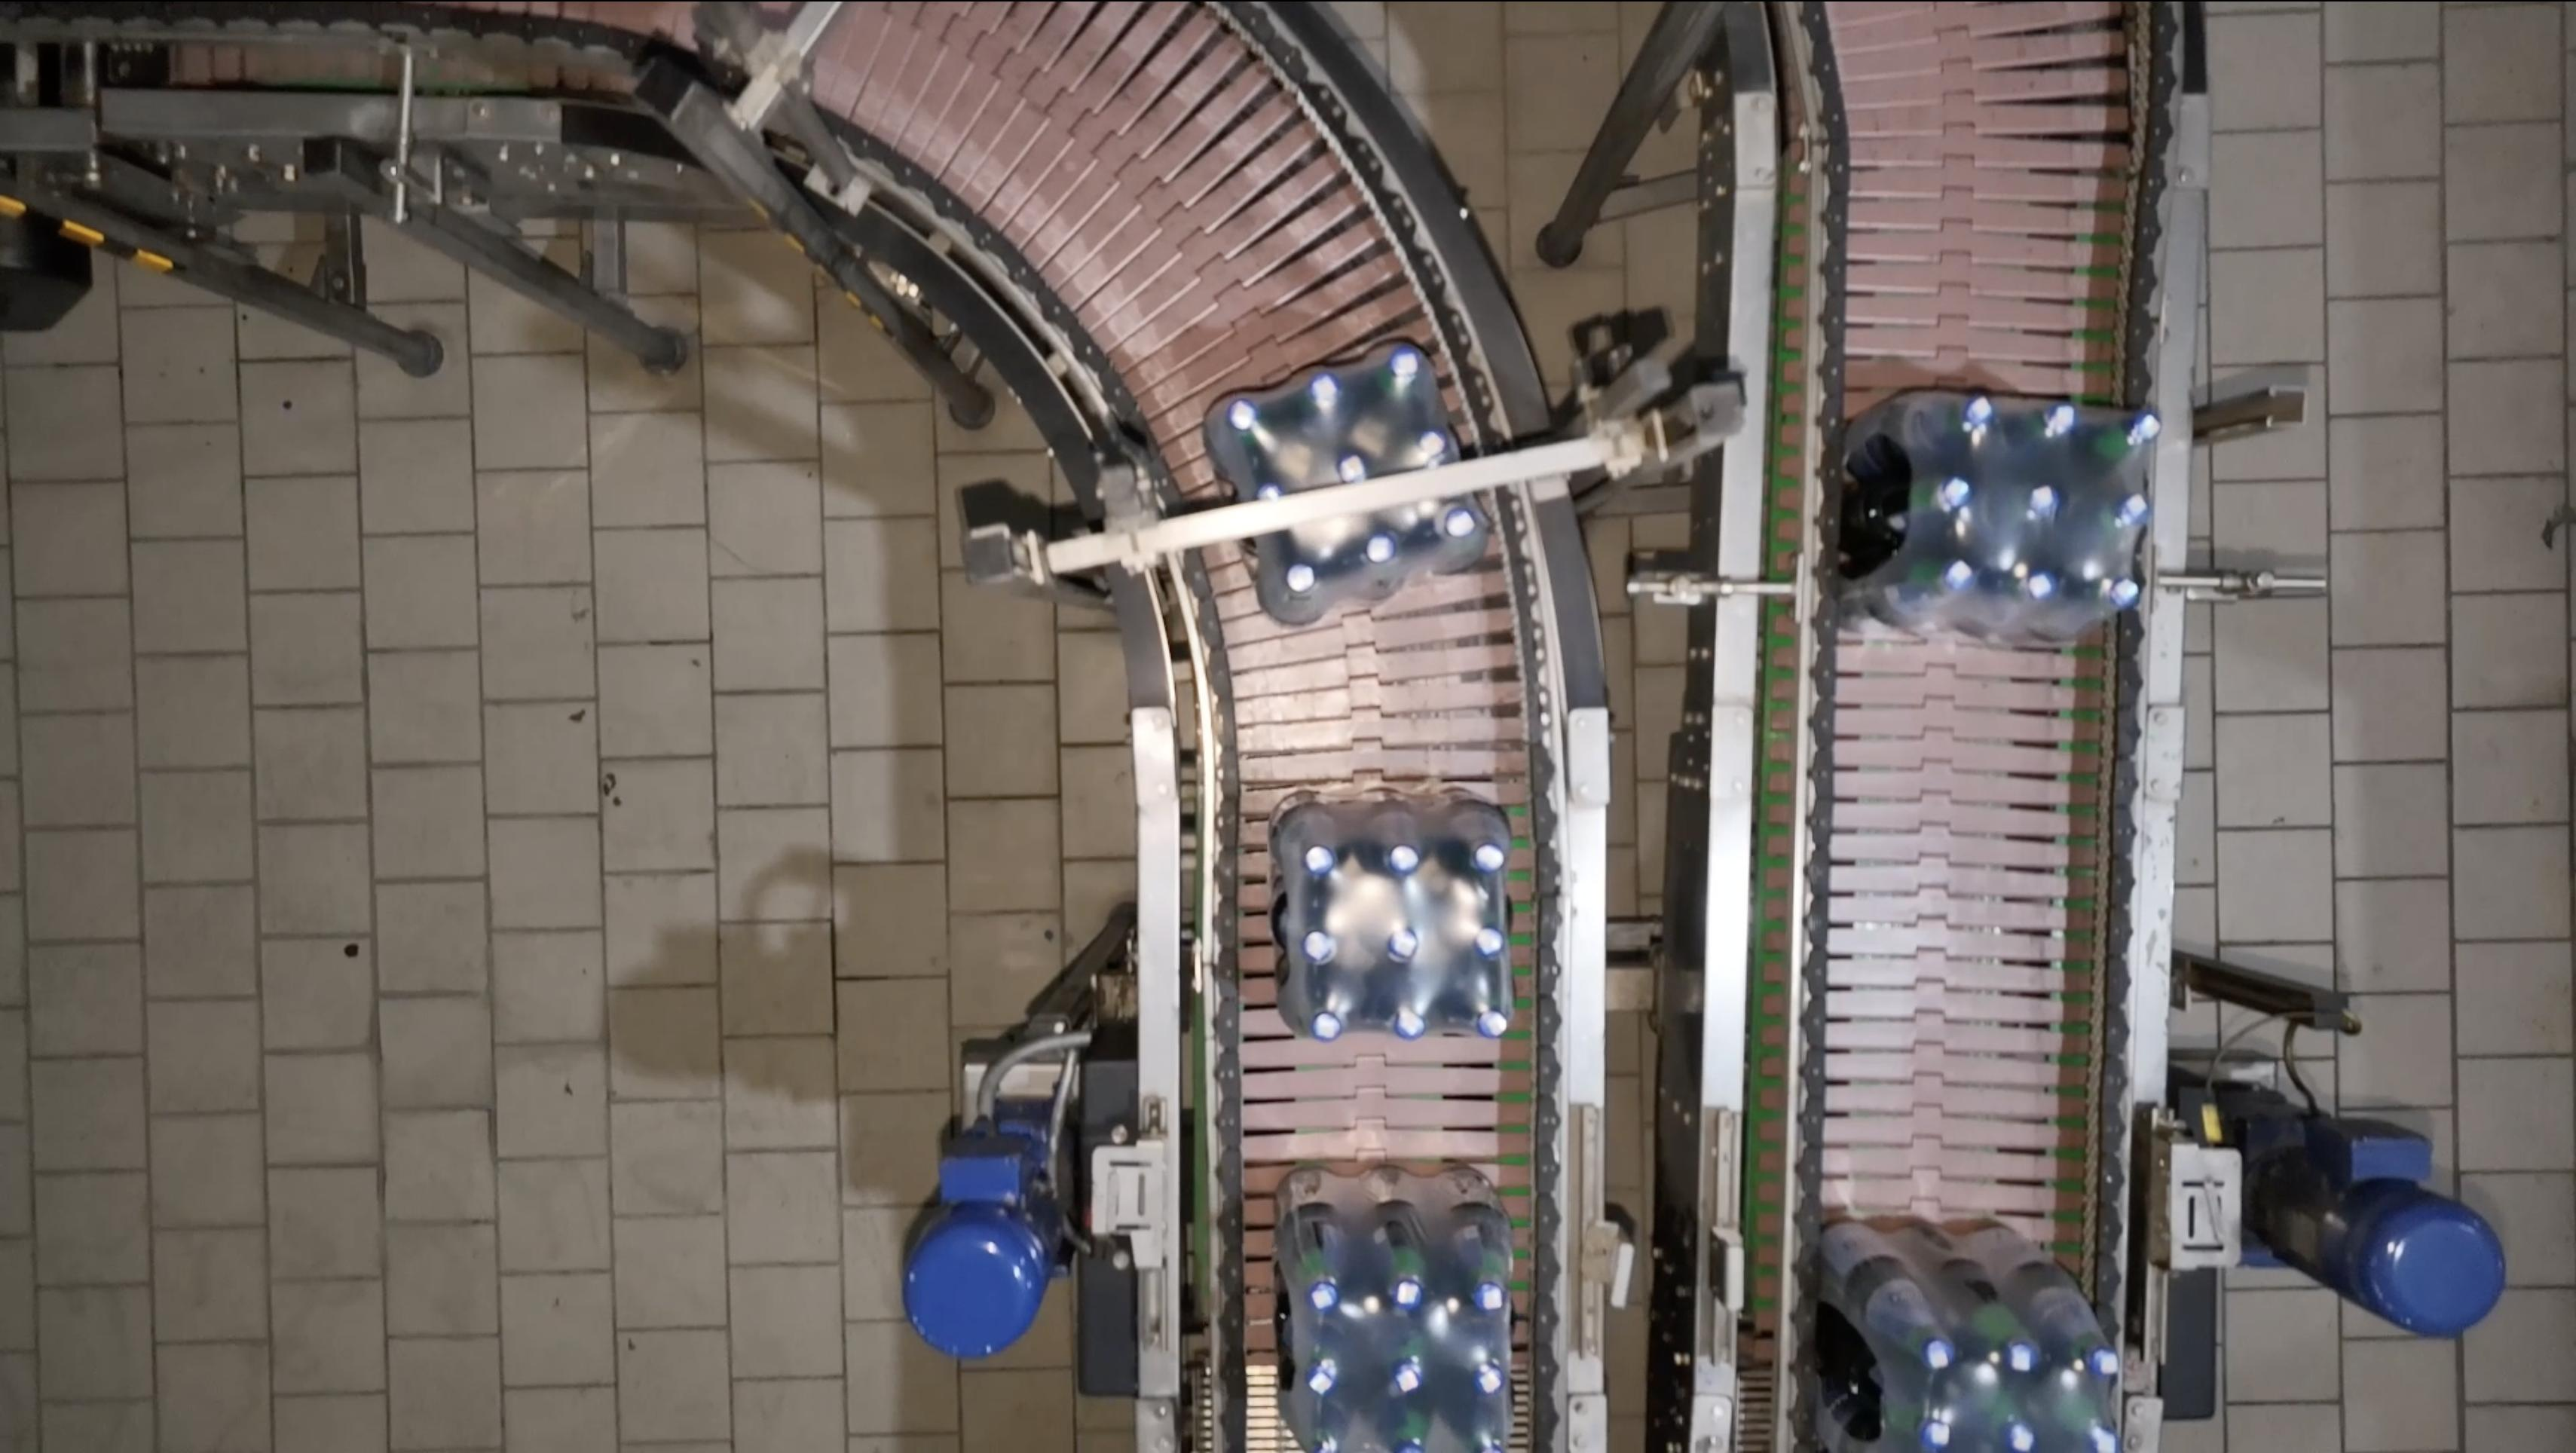pallet: (1891, 373, 2148, 637), (1845, 1218, 2114, 1453), (1295, 1179, 1511, 1453), (1284, 805, 1518, 1053), (1210, 391, 1477, 573)
